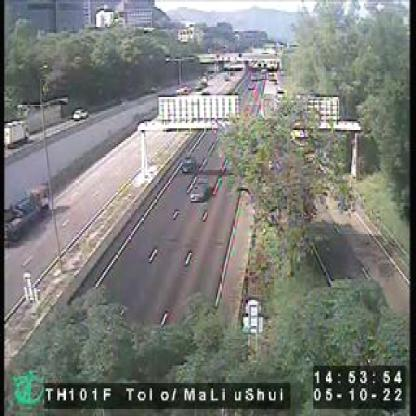Car: (188, 175, 208, 201), (181, 152, 195, 174)
